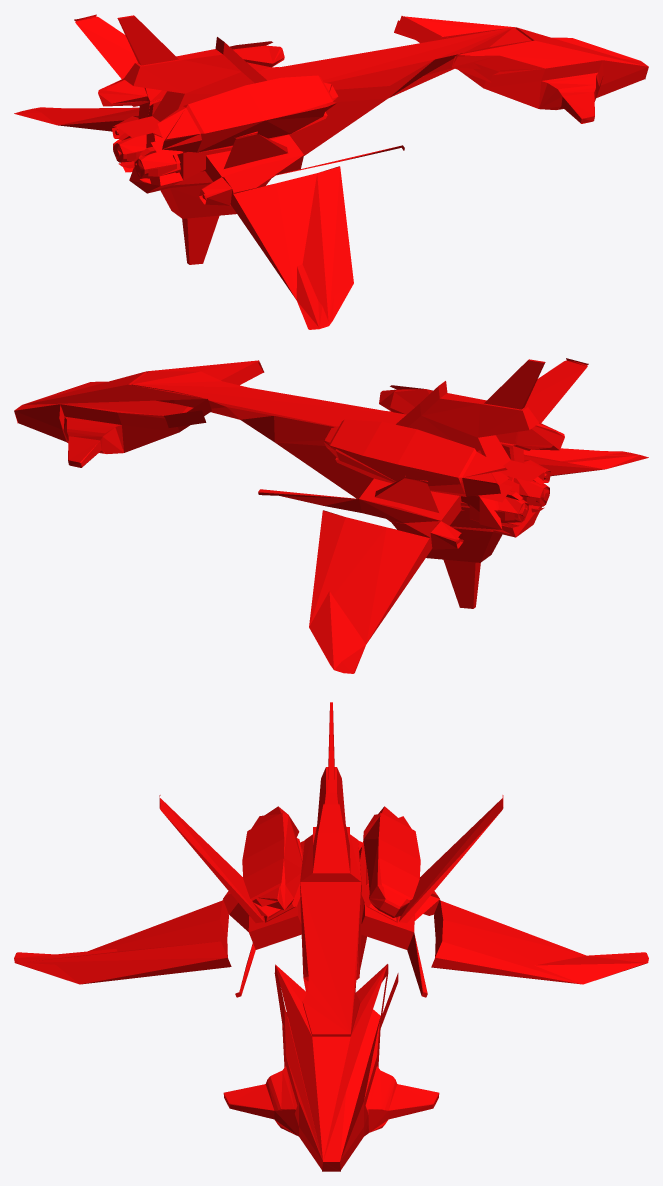
The model's file is nave2.FBX.
3 renders of one model, top to bottom at view 1: azimuth 30°, elevation 25°; view 2: azimuth 150°, elevation 25°; view 3: azimuth 270°, elevation 25°, orthographic. The views are drawn at different scales.
Parts seen in each view (by area): view 1: spacecraft; view 2: spacecraft; view 3: spacecraft.
Boxes of the visible parts, x1,y1,x2,y2 form: spacecraft: (14,14,648,329); spacecraft: (14,358,648,673); spacecraft: (14,702,648,1171).
Size of the model in its own units: 109 by 52.04 by 106.
